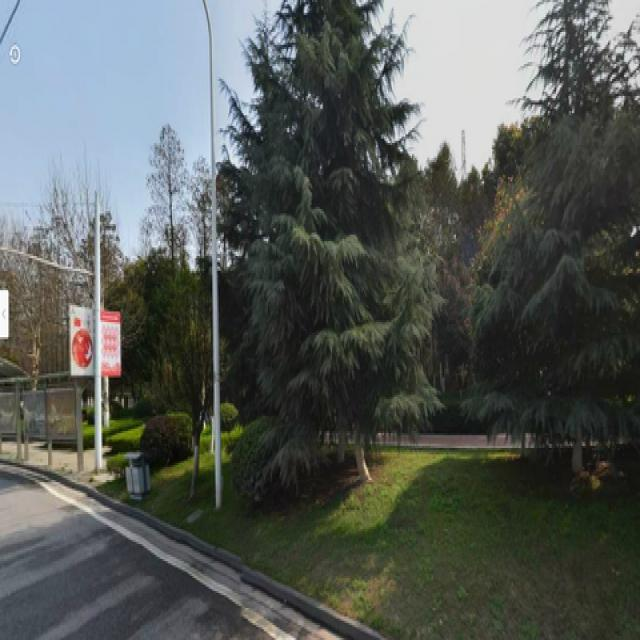cedr: (240, 4, 415, 499)
